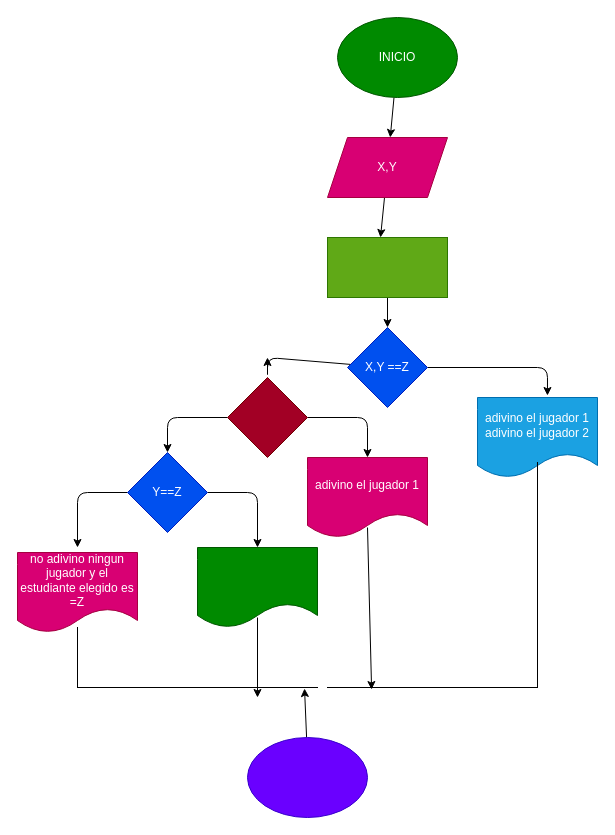
Some shapes in this 615 by 835 pixel diagram are drawn without their labels. The centre of each missing label's shape, as x and y in pixels:
FIN: pixel 307 777
solo adivino el jugador 2: pixel 257 587
X==z: pixel 267 417
Z = choice (estudiantes a elegir): pixel 387 267
